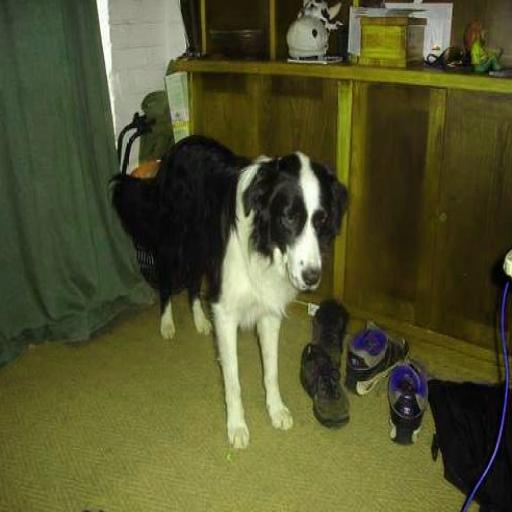dog_face: (250, 149, 352, 289)
